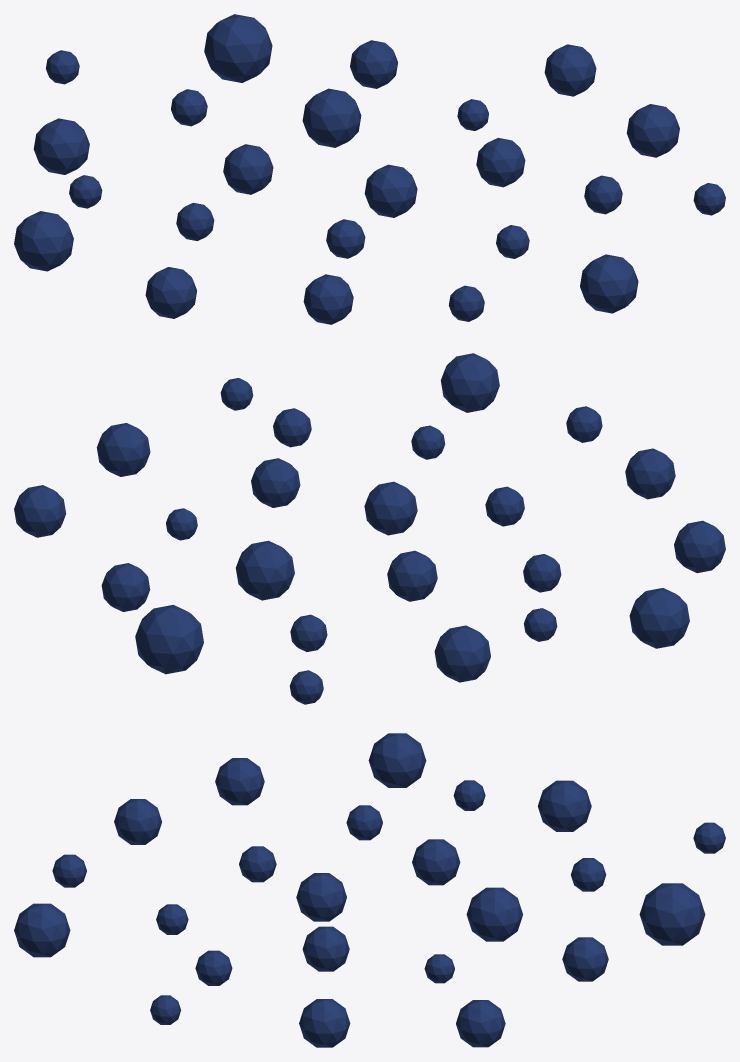
The model's file is blueberries_3_large.fbx.
3 views of the same model, one above another, from view 1: azimuth 30°, elevation 25°; view 2: azimuth 150°, elevation 25°; view 3: azimuth 270°, elevation 25° (orthographic). The views are drawn at different scales.
Visible parts, largest first — view 1: blueberry_3_large; view 2: blueberry_3_large; view 3: blueberry_3_large.
Boxes of the visible parts, left/top/right/bottom form: blueberry_3_large: left=14, top=14, right=725, bottom=324; blueberry_3_large: left=14, top=353, right=725, bottom=704; blueberry_3_large: left=14, top=733, right=725, bottom=1047.
Size of the model in its own units: 16.6 by 1.62 by 17.58.
